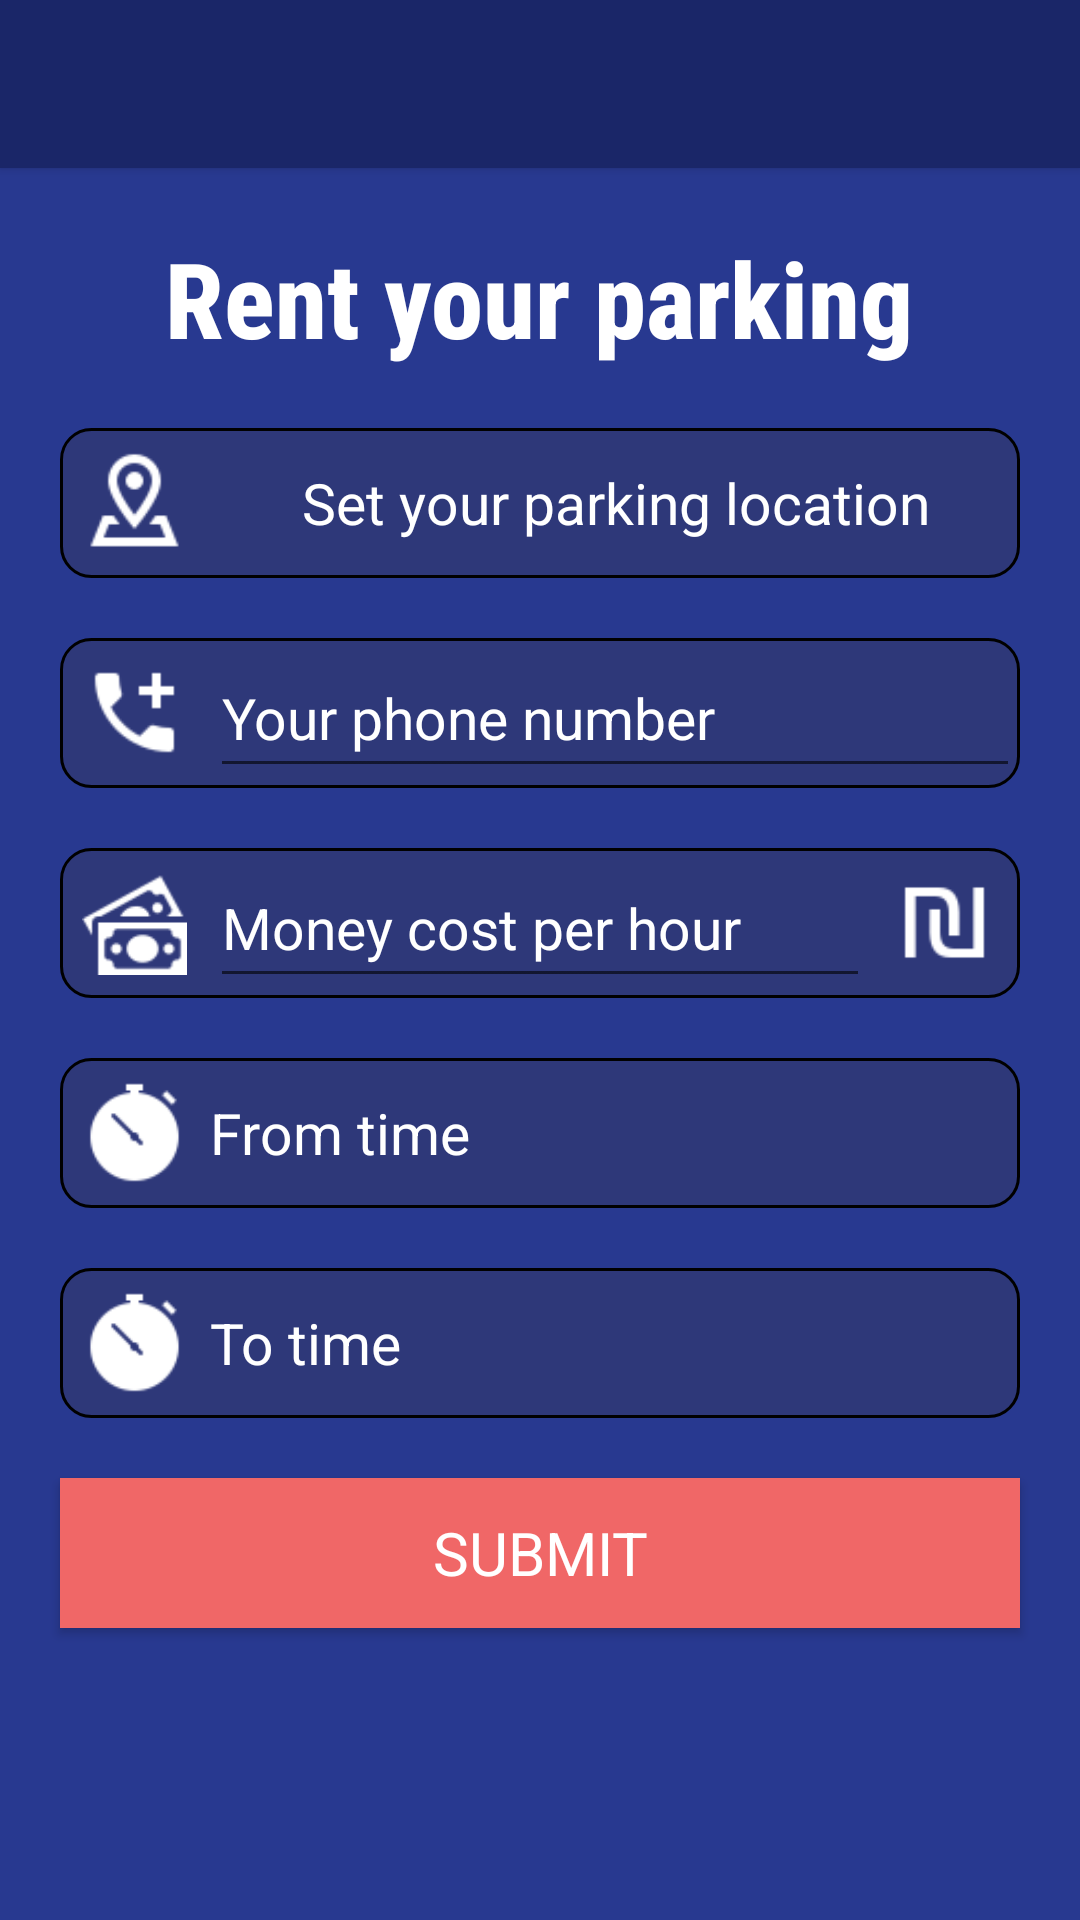

Locate icon controls on the screen. Image size 1080px x 1920px, boxes as (x1, y1, x2, y2).
address: (90, 454, 179, 547)
shekel: (904, 887, 985, 958)
